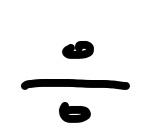div: (21, 41, 130, 123)
